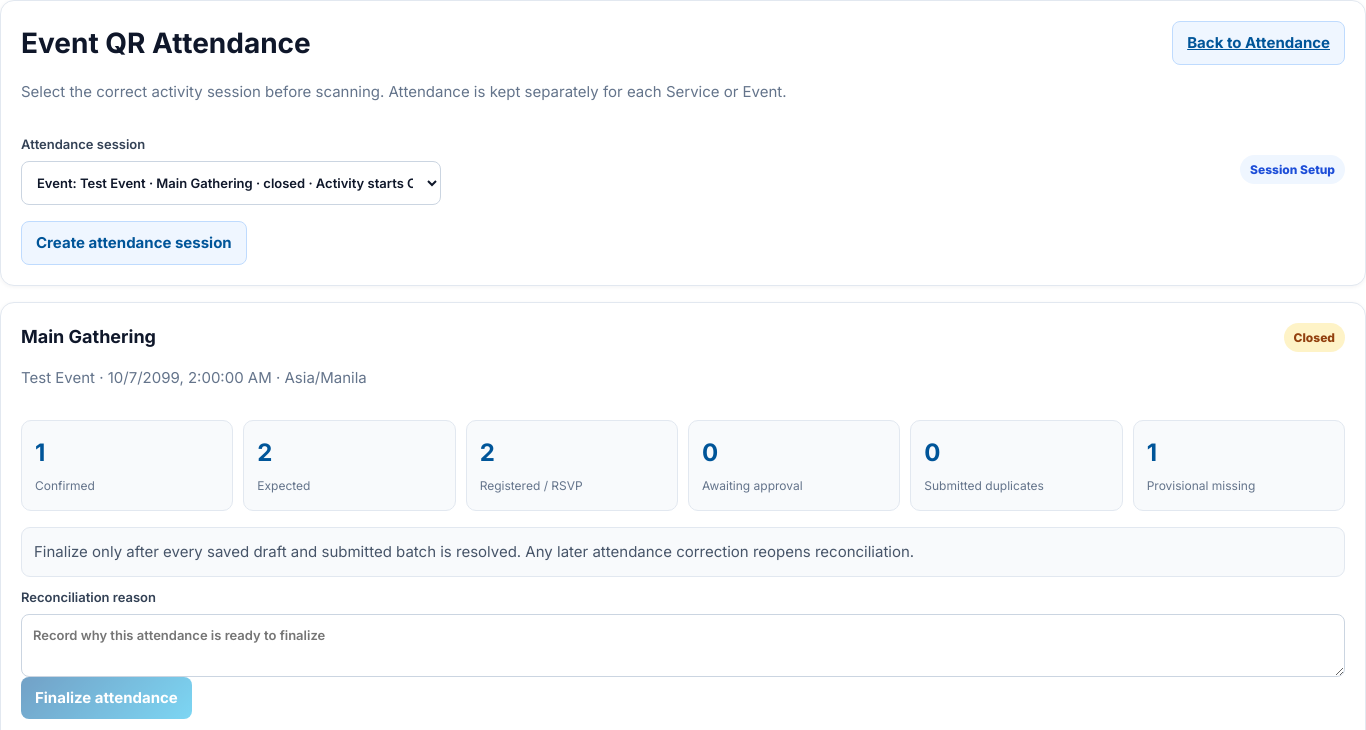
Test: QR attendance workspace role flows › lets Registration finalize a closed expected roster and renders the persisted final state
In the text box labelled "Reconciliation reason": (683, 645) [21, 614, 1345, 677], type "Reviewed the expected roster"
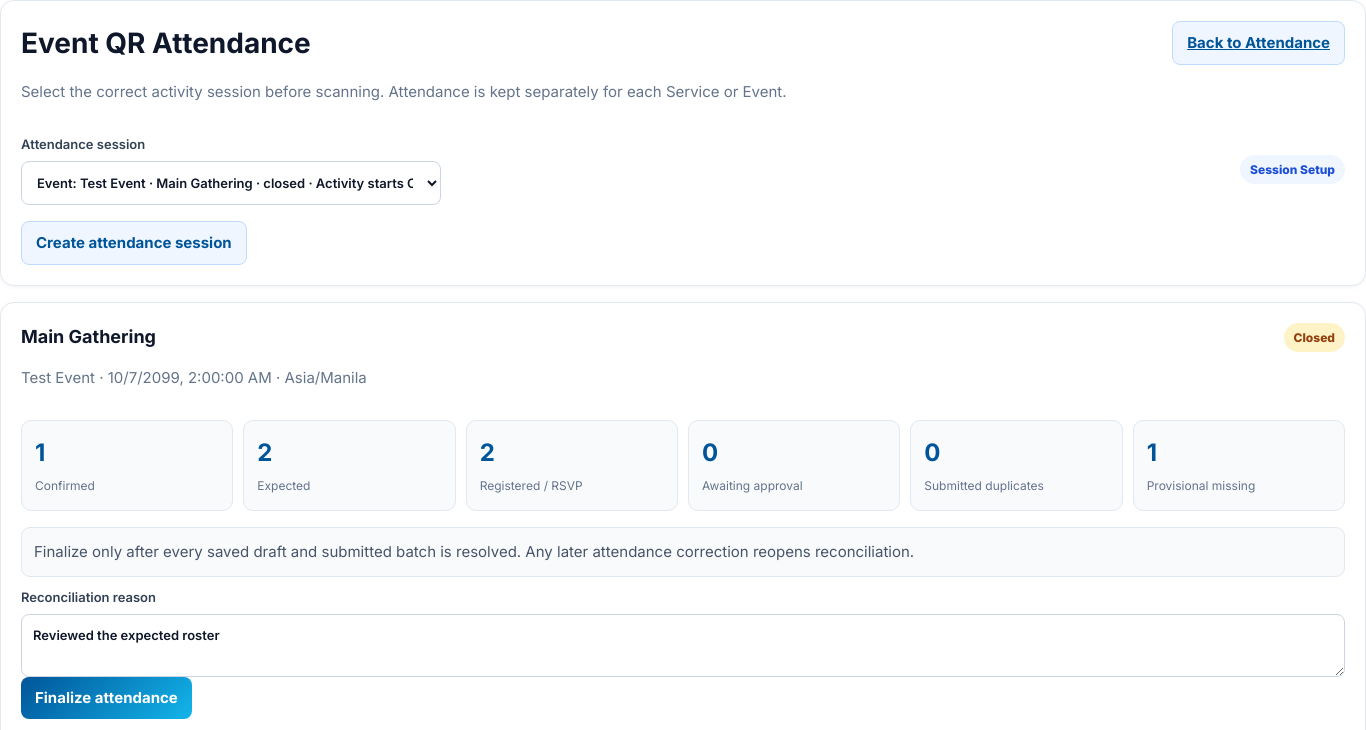
Click the button "Finalize attendance": (106, 698) [21, 677, 192, 719]
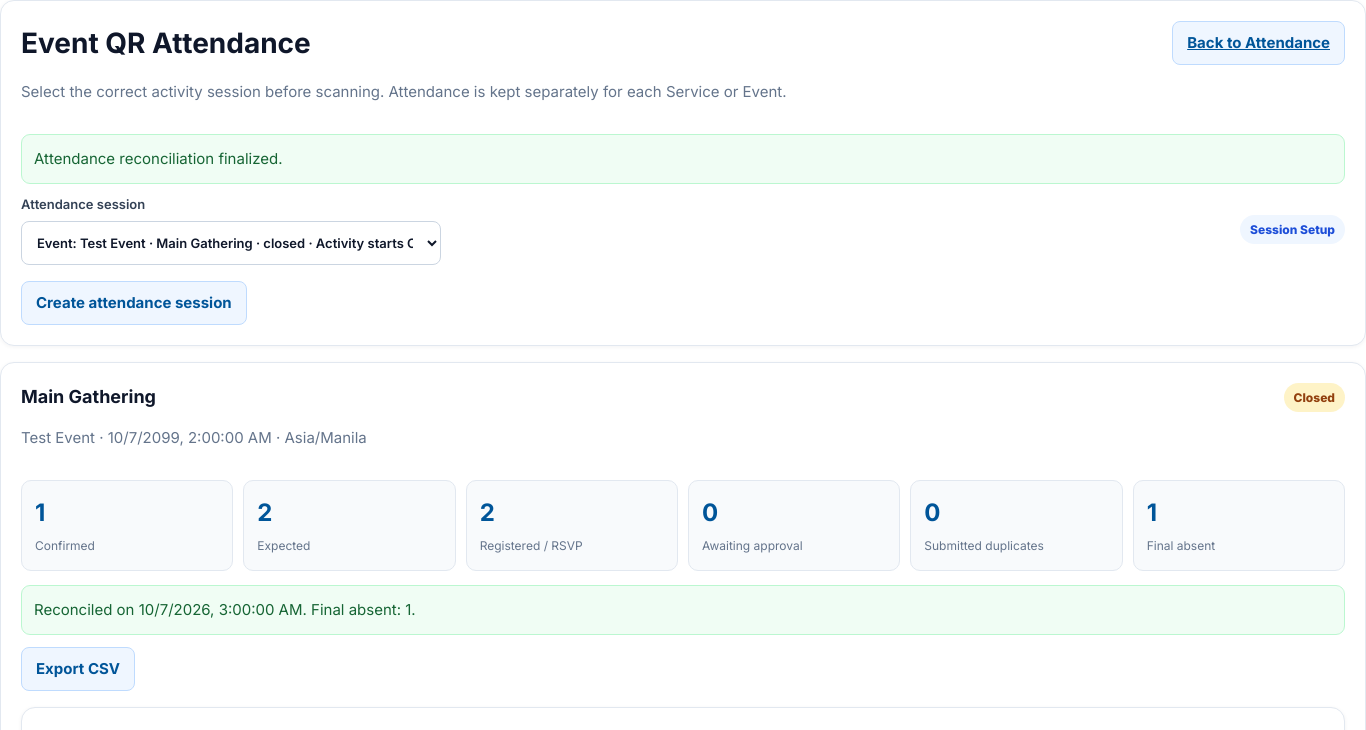
Expected: the text "Reconciled on 10/7/2026, 3:00:00 AM. Final absent: 1." is shown, [21, 585, 1345, 635]
Expected: the text "Final absent" is shown, [1147, 538, 1215, 553]
